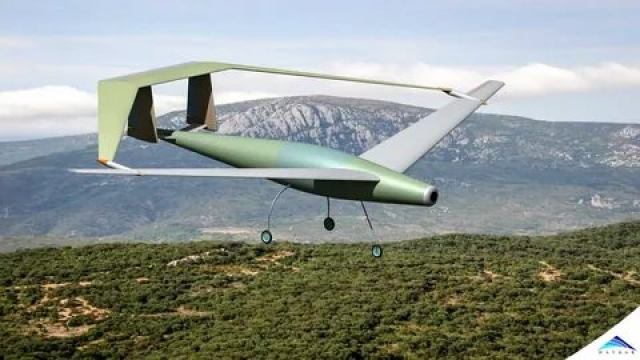military drone: (63, 61, 504, 257)
